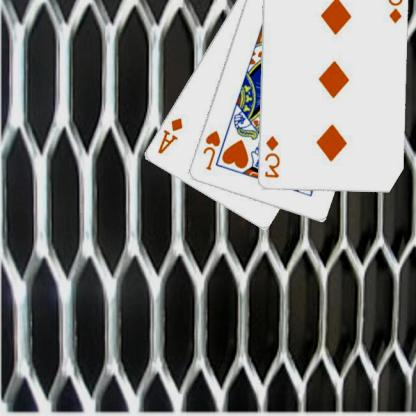3D: (263, 133, 282, 179), (386, 0, 406, 25)
AD: (156, 115, 186, 156)
JH: (202, 128, 224, 172)
